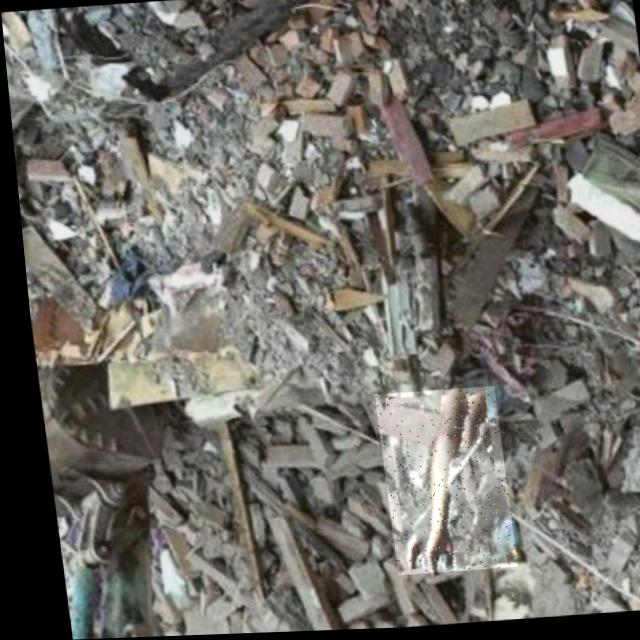Person in Rubble: (365, 388, 505, 577)
